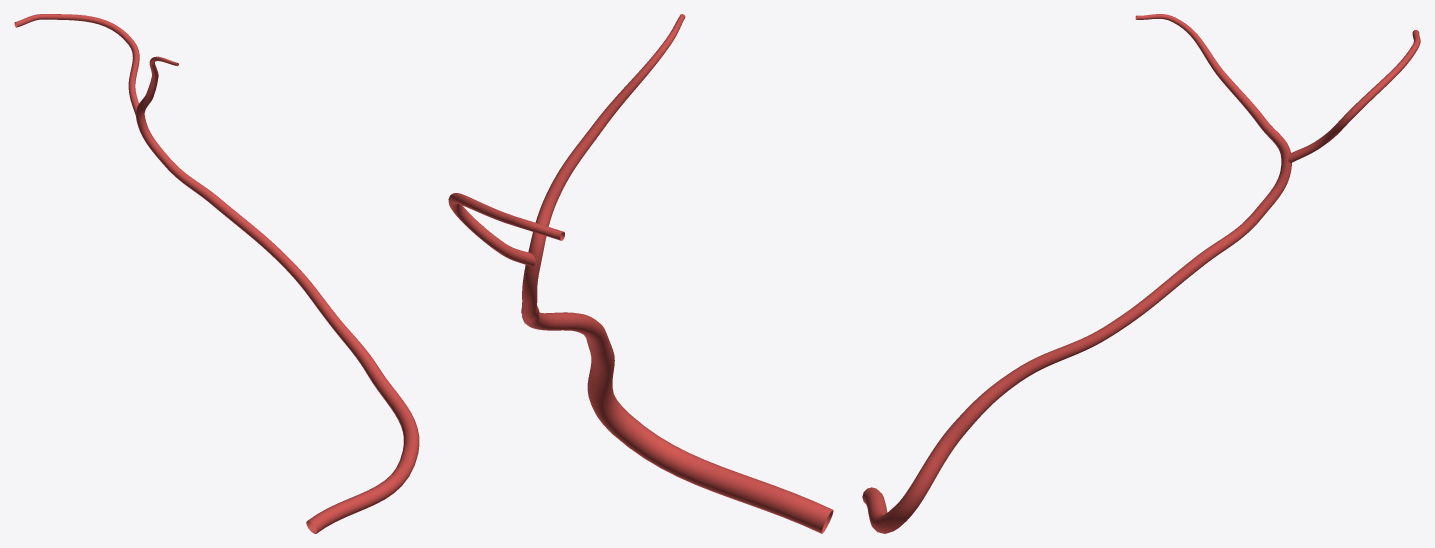
3 renders of one model, left to right at view 1: azimuth 30°, elevation 25°; view 2: azimuth 150°, elevation 25°; view 3: azimuth 270°, elevation 25°, orthographic. The views are drawn at different scales.
Visible parts, largest first — view 1: 左侧颞后支; view 2: 左侧颞后支; view 3: 左侧颞后支.
Boxes of the visible parts, left/top/right/bottom form: 左侧颞后支: left=14, top=14, right=419, bottom=533; 左侧颞后支: left=448, top=14, right=833, bottom=533; 左侧颞后支: left=862, top=14, right=1420, bottom=533.
Bounding box in the file's own units: 0.0287 × 0.0566 × 0.0603.
